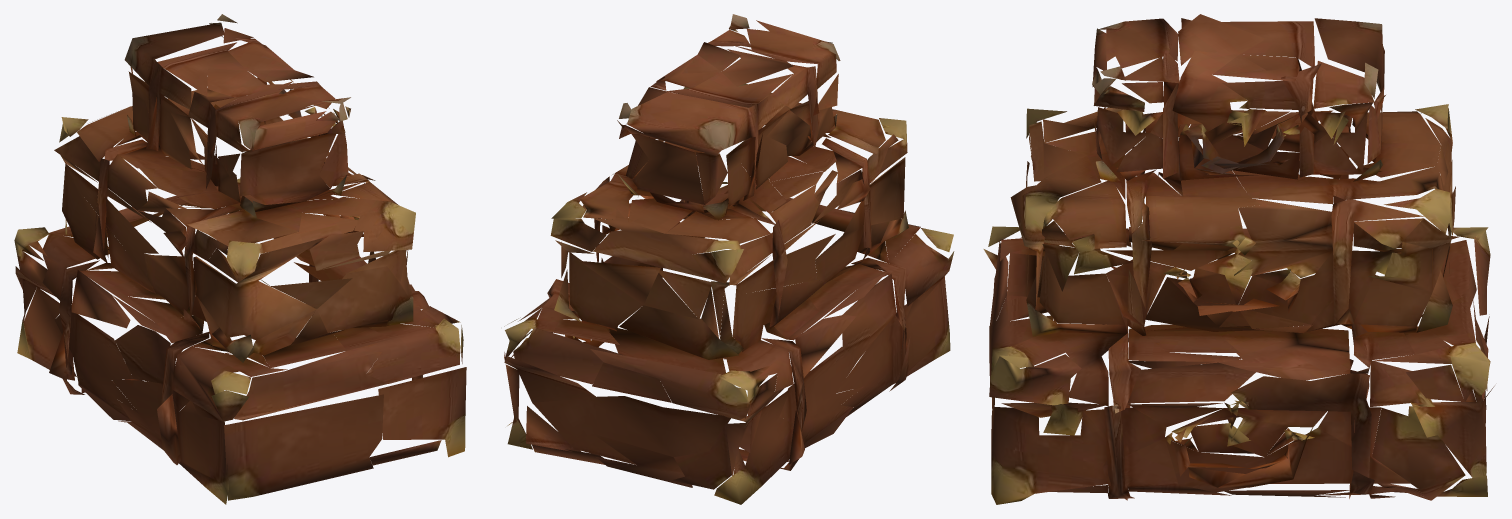
The model's file is penn_luggage.glb.
3 renders of one model, left to right at view 1: azimuth 30°, elevation 25°; view 2: azimuth 150°, elevation 25°; view 3: azimuth 270°, elevation 25°, orthographic. The views are drawn at different scales.
Visible parts, largest first — view 1: tripo_node_7cef07ee-064d-48fa-b87e-88677eebe815; view 2: tripo_node_7cef07ee-064d-48fa-b87e-88677eebe815; view 3: tripo_node_7cef07ee-064d-48fa-b87e-88677eebe815.
Part boxes in pixels (box(x1,y1,x2,y2)): tripo_node_7cef07ee-064d-48fa-b87e-88677eebe815: box(14, 14, 466, 504); tripo_node_7cef07ee-064d-48fa-b87e-88677eebe815: box(504, 14, 954, 504); tripo_node_7cef07ee-064d-48fa-b87e-88677eebe815: box(983, 14, 1494, 504).
Size of the model in its own units: 0.7437 by 0.8816 by 1.01.
Materials: 1 (1 with a texture image).
